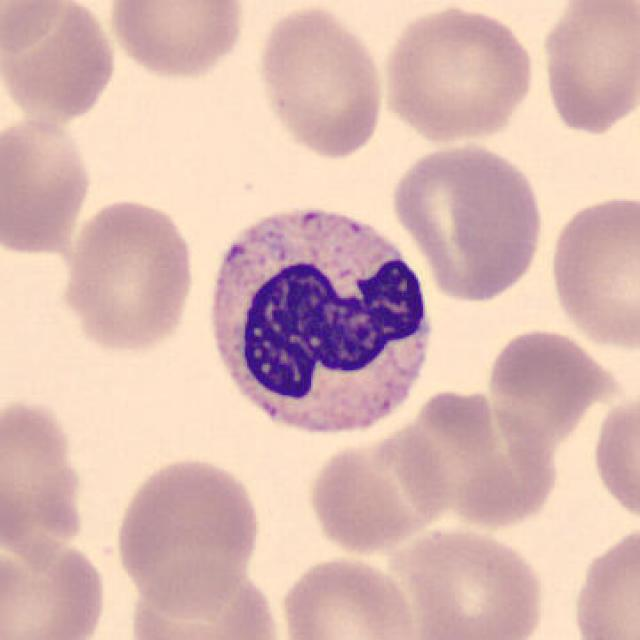Neutrophil: (195, 194, 442, 451)
RBC: (386, 138, 548, 305), (110, 453, 265, 615), (388, 390, 557, 532), (375, 2, 539, 146), (57, 194, 199, 356), (251, 2, 389, 162), (302, 423, 457, 557), (388, 522, 550, 640), (484, 324, 618, 444), (0, 390, 89, 566), (546, 189, 640, 354), (2, 0, 119, 125), (535, 0, 638, 139), (0, 111, 96, 259), (120, 560, 286, 640), (276, 552, 422, 640), (0, 529, 112, 640), (105, 0, 249, 83), (567, 520, 640, 640), (588, 384, 638, 531), (0, 1, 69, 58)
